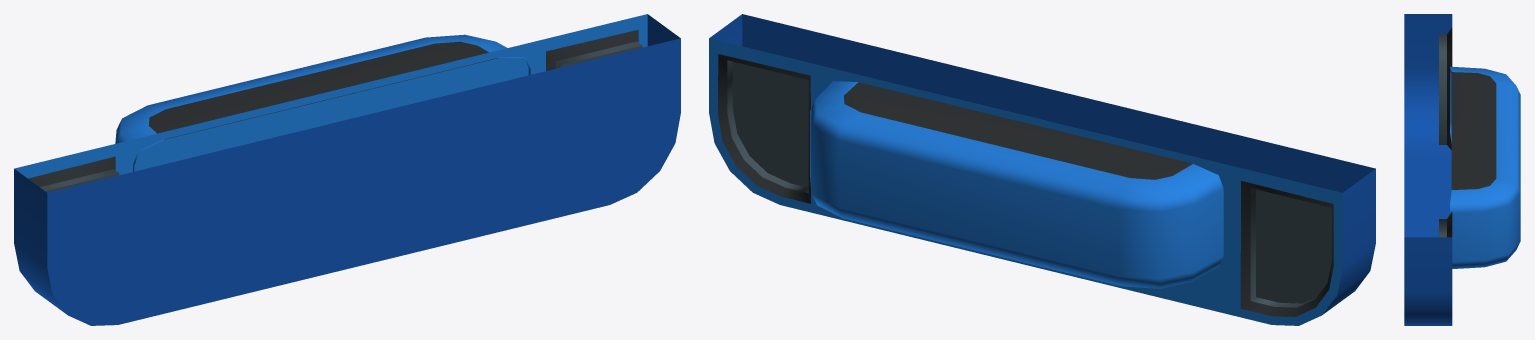
Rendered from Car_07_RearBumper_Simple.fbx.
3 views of the same model, side by side, from view 1: azimuth 30°, elevation 25°; view 2: azimuth 150°, elevation 25°; view 3: azimuth 270°, elevation 25° (orthographic). The views are drawn at different scales.
Visible parts, largest first — view 1: Car_07_RearBumper_Simple; view 2: Car_07_RearBumper_Simple; view 3: Car_07_RearBumper_Simple.
Part boxes in pixels (<box>): Car_07_RearBumper_Simple: <box>14,14,680,325</box>; Car_07_RearBumper_Simple: <box>709,14,1375,325</box>; Car_07_RearBumper_Simple: <box>1404,14,1520,325</box>.
Bounding box in the file's own units: 158 × 34.6 × 35.52.
